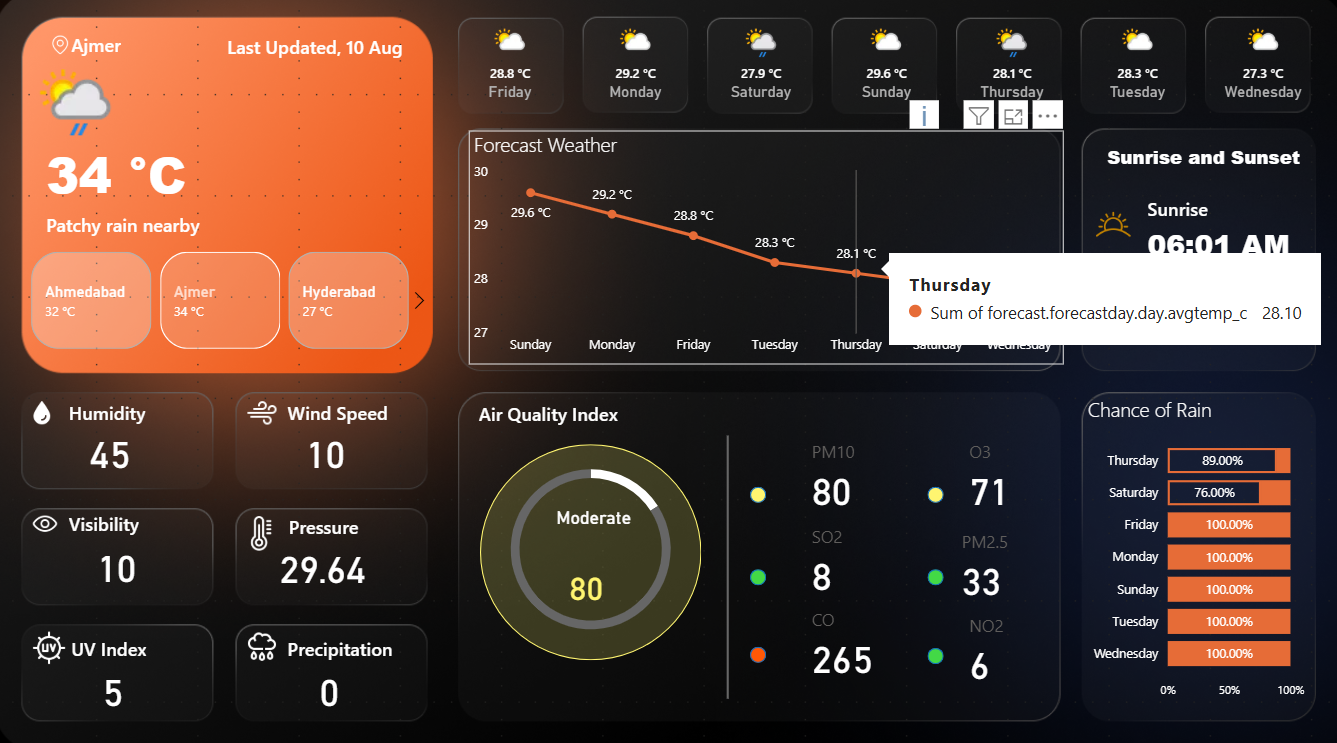

This screenshot's page, from the dashboard's own definition file:
{"tool":"powerbi","page":{"name":"Page 1","canvas":[1280,720],"ordinal":0},"visuals":[{"type":"shape","box":[459.5,427.5,209.9,204.8],"z":0},{"type":"advancedSlicerVisual","fields":{"Values":["Locations.location.name"]},"box":[9.6,240.1,408.9,102.9],"z":1000},{"type":"shape","box":[48,123.5,237.4,96.1],"z":2000},{"type":"shape","box":[48,197.6,312.9,42.5],"z":3000},{"type":"shape","box":[72.7,32.9,146.8,31.6],"z":4000},{"type":"shape","box":[193.5,34.3,193.5,31.6],"z":5000},{"type":"image","box":[15.1,35.7,93.3,27.4],"z":6000},{"type":"cardVisual","fields":{"Data":["Min(Current.current.condition.icon)"]},"box":[9.6,35.7,124.9,135.8],"z":7000},{"type":"image","box":[27.4,381.5,34.3,32.9],"z":8000},{"type":"image","box":[17.8,484.4,59,37],"z":9000},{"type":"image","box":[26.1,599.7,50.8,42.5],"z":10000},{"type":"image","box":[233.3,377.4,39.8,42.5],"z":11000},{"type":"image","box":[230.5,484.4,42.5,54.9],"z":12000},{"type":"image","box":[229.2,598.3,48,42.5],"z":13000},{"type":"shape","box":[70,381.5,193.5,31.6],"z":14000},{"type":"shape","box":[70,487.1,193.5,31.6],"z":15000},{"type":"shape","box":[72.7,605.1,193.5,31.6],"z":16000},{"type":"shape","box":[277.2,381.5,193.5,31.6],"z":17000},{"type":"shape","box":[278.6,489.9,193.5,31.6],"z":18000},{"type":"shape","box":[277.2,605.1,193.5,31.6],"z":19000},{"type":"cardVisual","fields":{"Data":["Sum(Current.current.humidity)"]},"box":[72.7,359.5,149.6,149.6],"z":20000},{"type":"cardVisual","fields":{"Data":["Sum(Current.current.vis_km)"]},"box":[79.6,466.6,149.6,149.6],"z":21000},{"type":"cardVisual","fields":{"Data":["Sum(Current.current.uv)"]},"box":[84.5,598.8,148.9,121.5],"z":22000},{"type":"cardVisual","fields":{"Data":["Sum(Current.current.vis_km)"]},"box":[277.2,359.5,149.6,149.6],"z":23000},{"type":"cardVisual","fields":{"Data":["Sum(Current.current.pressure_in)"]},"box":[252,467,150,150],"z":24000},{"type":"cardVisual","fields":{"Data":["Sum(Current.current.precip_mm)"]},"box":[290.4,598.8,150,121.5],"z":25000},{"type":"advancedSlicerVisual","fields":{"Values":["Forecast.Day_Name"]},"box":[427.5,22.8,836.9,85.3],"z":26000},{"type":"lineChart","title":"Forecast Weather","fields":{"Category":["Forecast.Day_Name"],"Y":["Sum(Forecast.forecast.forecastday.day.avgtemp_c)"]},"box":[449.2,130.5,563.7,221.5],"z":27000},{"type":"shape","box":[1042.5,139.1,194.5,32],"z":28000},{"type":"shape","box":[1092.9,212.9,141.5,49.2],"z":29000},{"type":"shape","box":[1092.9,155.1,87.4,97.2],"z":30000},{"type":"shape","box":[1092.9,237.5,87.4,97.2],"z":31000},{"type":"shape","box":[1092.9,291.7,141.5,49.2],"z":32000},{"type":"image","box":[1033.8,190.8,54.2,56.6],"z":33000},{"type":"image","box":[1040,278.2,43.1,48],"z":34000},{"type":"hundredPercentStackedBarChart","title":"Chance of Rain","fields":{"Y":["Sum(Forecast.forecast.forecastday.day.daily_chance_of_rain)","_Measures.Left_value_Rain"],"Category":["Forecast.Day_Name"]},"box":[1031.4,381.5,215.4,296.6],"z":35000},{"type":"shape","box":[459.1,382.8,194.5,32],"z":36000},{"type":"cardVisual","title":"PM10","fields":{"Data":["Sum(Current.current.air_quality.pm2_5)"]},"box":[899.8,491.5,120.3,98.6],"z":37000},{"type":"cardVisual","title":"PM10","fields":{"Data":["Sum(Current.current.air_quality.so2)"]},"box":[757.8,487.7,106.2,98.6],"z":38000},{"type":"cardVisual","title":"PM10","fields":{"Data":["Sum(Current.current.air_quality.co)"]},"box":[757.8,565.8,157.4,98.6],"z":39000},{"type":"cardVisual","title":"PM10","fields":{"Data":["Sum(Current.current.air_quality.o3)"]},"box":[906.2,407,106.2,98.6],"z":40000},{"type":"cardVisual","title":"PM10","fields":{"Data":["Sum(Current.current.air_quality.pm10)"]},"box":[757.8,407,106.2,98.6],"z":41000},{"type":"cardVisual","title":"PM10","fields":{"Data":["Sum(Current.current.air_quality.no2)"]},"box":[906.2,570.9,120.3,98.6],"z":42000},{"type":"shape","box":[715.5,468.5,15.4,15.4],"z":43000},{"type":"shape","box":[715.5,546.6,15.4,15.4],"z":44000},{"type":"shape","box":[715.5,619.5,15.4,15.4],"z":45000},{"type":"shape","box":[884.5,468.5,15.4,15.4],"z":46000},{"type":"shape","box":[884.5,546.6,15.4,15.4],"z":47000},{"type":"shape","box":[884.5,620.8,15.4,15.4],"z":48000},{"type":"shape","box":[619.5,419.8,149.8,249.6],"z":49000},{"type":"cardVisual","fields":{"Data":["Sum(Current.current.air_quality.pm10)"]},"box":[527.4,487.7,142.1,133.1],"z":50000},{"type":"donutChart","title":"PM10","fields":{"Y":["Sum(Current.current.air_quality.pm10)","_Measures.Left_value_PM10"]},"box":[441.6,427.5,245.8,199.7],"z":51000}]}

Visuals, with their boxes in screenshot pixels (x1, y1, x2, y2), scaled from the page's 1280x720 canvas onto the 1337x743 screenshot:
shape: Rect(480, 441, 699, 652)
advancedSlicerVisual - Locations.location.name: Rect(10, 248, 437, 354)
shape: Rect(50, 127, 298, 227)
shape: Rect(50, 204, 377, 248)
shape: Rect(76, 34, 229, 67)
shape: Rect(202, 35, 404, 68)
image: Rect(16, 37, 113, 65)
cardVisual - Min(Current.current.condition.icon): Rect(10, 37, 140, 177)
image: Rect(29, 394, 64, 428)
image: Rect(19, 500, 80, 538)
image: Rect(27, 619, 80, 663)
image: Rect(244, 389, 285, 433)
image: Rect(241, 500, 285, 557)
image: Rect(239, 617, 290, 661)
shape: Rect(73, 394, 275, 426)
shape: Rect(73, 503, 275, 535)
shape: Rect(76, 624, 278, 657)
shape: Rect(290, 394, 492, 426)
shape: Rect(291, 506, 493, 538)
shape: Rect(290, 624, 492, 657)
cardVisual - Sum(Current.current.humidity): Rect(76, 371, 232, 525)
cardVisual - Sum(Current.current.vis_km): Rect(83, 482, 239, 636)
cardVisual - Sum(Current.current.uv): Rect(88, 618, 244, 742)
cardVisual - Sum(Current.current.vis_km): Rect(290, 371, 446, 525)
cardVisual - Sum(Current.current.pressure_in): Rect(263, 482, 420, 637)
cardVisual - Sum(Current.current.precip_mm): Rect(303, 618, 460, 742)
advancedSlicerVisual - Forecast.Day_Name: Rect(447, 24, 1321, 112)
"Forecast Weather" lineChart: Rect(469, 135, 1058, 363)
shape: Rect(1089, 144, 1292, 177)
shape: Rect(1142, 220, 1289, 270)
shape: Rect(1142, 160, 1233, 260)
shape: Rect(1142, 245, 1233, 345)
shape: Rect(1142, 301, 1289, 352)
image: Rect(1080, 197, 1136, 255)
image: Rect(1086, 287, 1131, 337)
"Chance of Rain" hundredPercentStackedBarChart: Rect(1077, 394, 1302, 700)
shape: Rect(480, 395, 683, 428)
"PM10" cardVisual: Rect(940, 507, 1066, 609)
"PM10" cardVisual: Rect(792, 503, 902, 605)
"PM10" cardVisual: Rect(792, 584, 956, 686)
"PM10" cardVisual: Rect(947, 420, 1057, 522)
"PM10" cardVisual: Rect(792, 420, 902, 522)
"PM10" cardVisual: Rect(947, 589, 1072, 691)
shape: Rect(747, 483, 763, 499)
shape: Rect(747, 564, 763, 580)
shape: Rect(747, 639, 763, 655)
shape: Rect(924, 483, 940, 499)
shape: Rect(924, 564, 940, 580)
shape: Rect(924, 641, 940, 657)
shape: Rect(647, 433, 804, 691)
cardVisual - Sum(Current.current.air_quality.pm10): Rect(551, 503, 699, 641)
"PM10" donutChart: Rect(461, 441, 718, 647)
